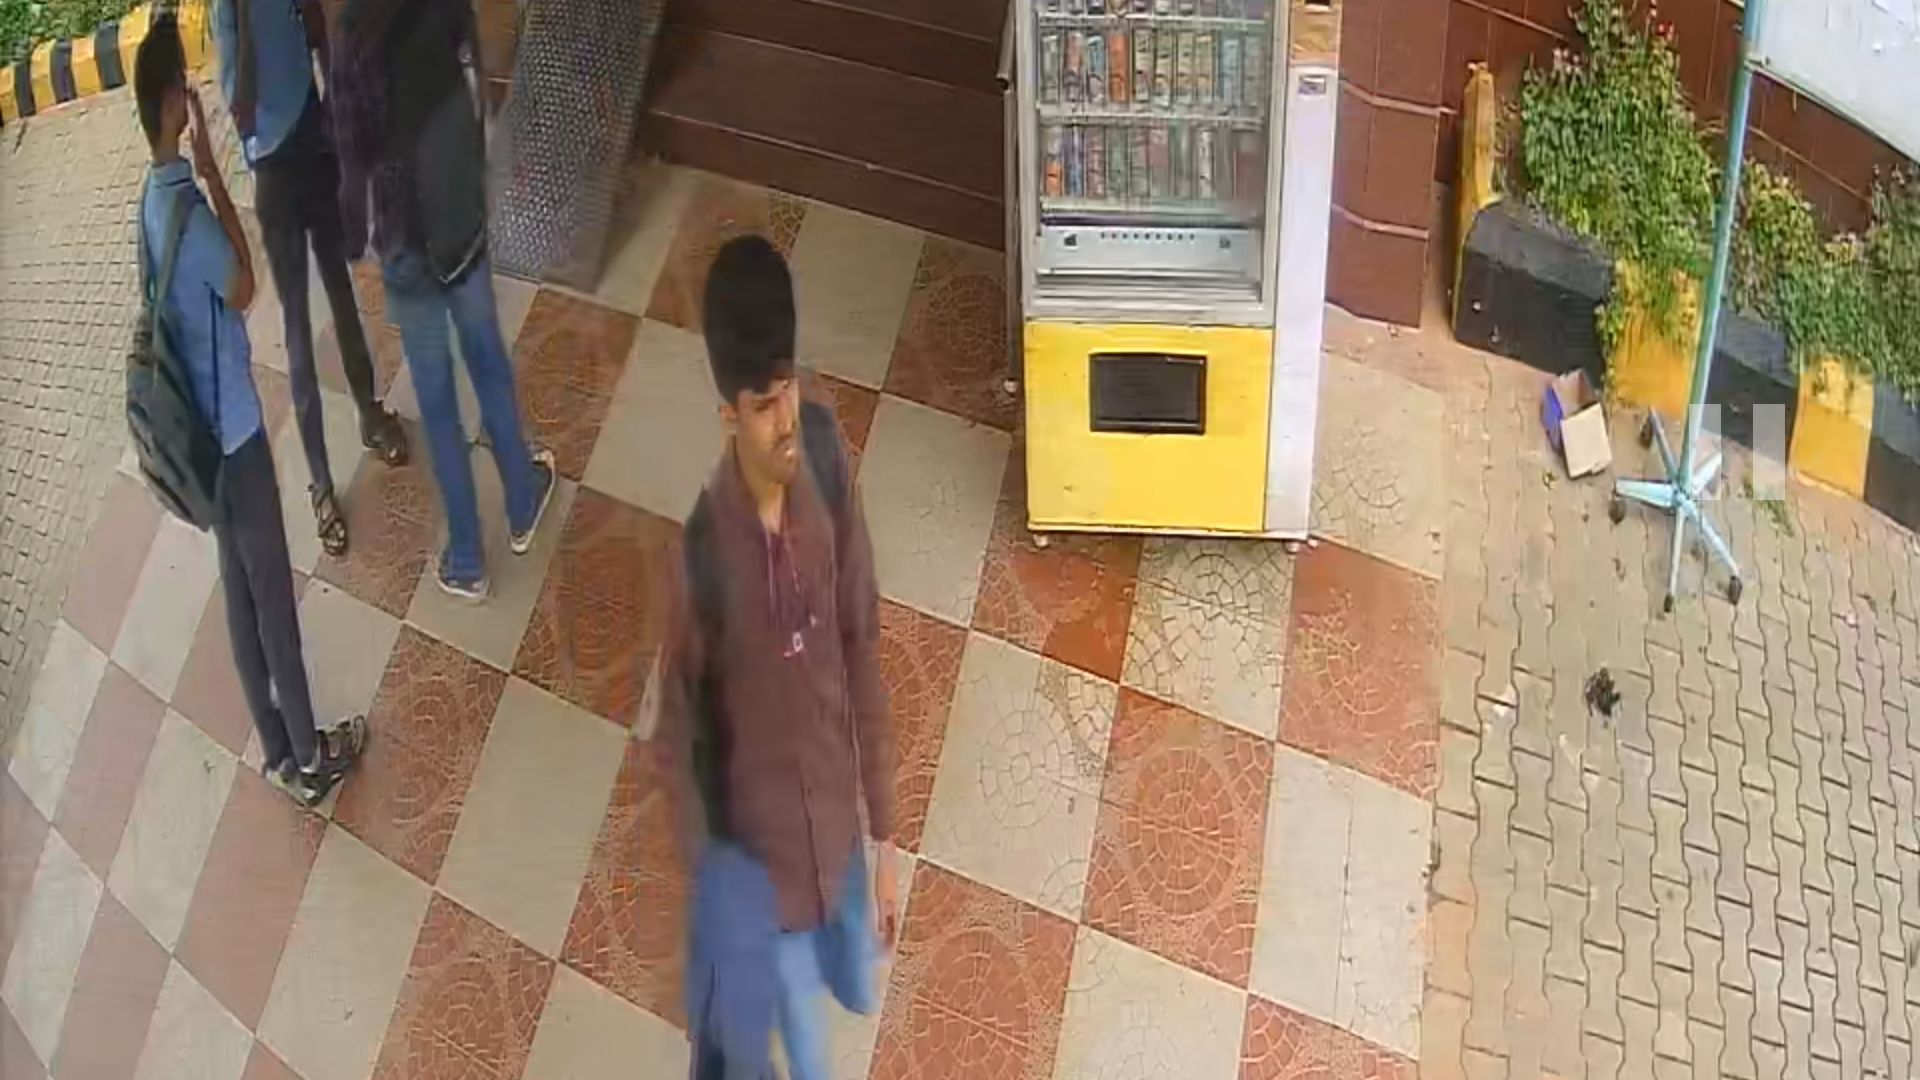intruder: (691, 222, 911, 1080)
